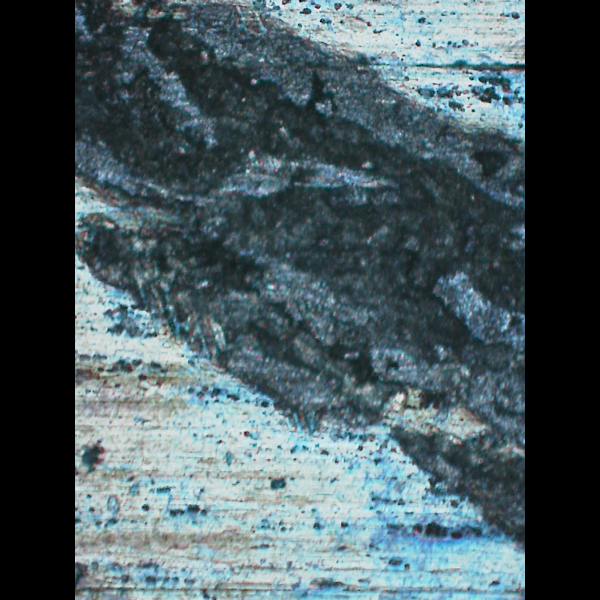d: (74, 0, 523, 570)
